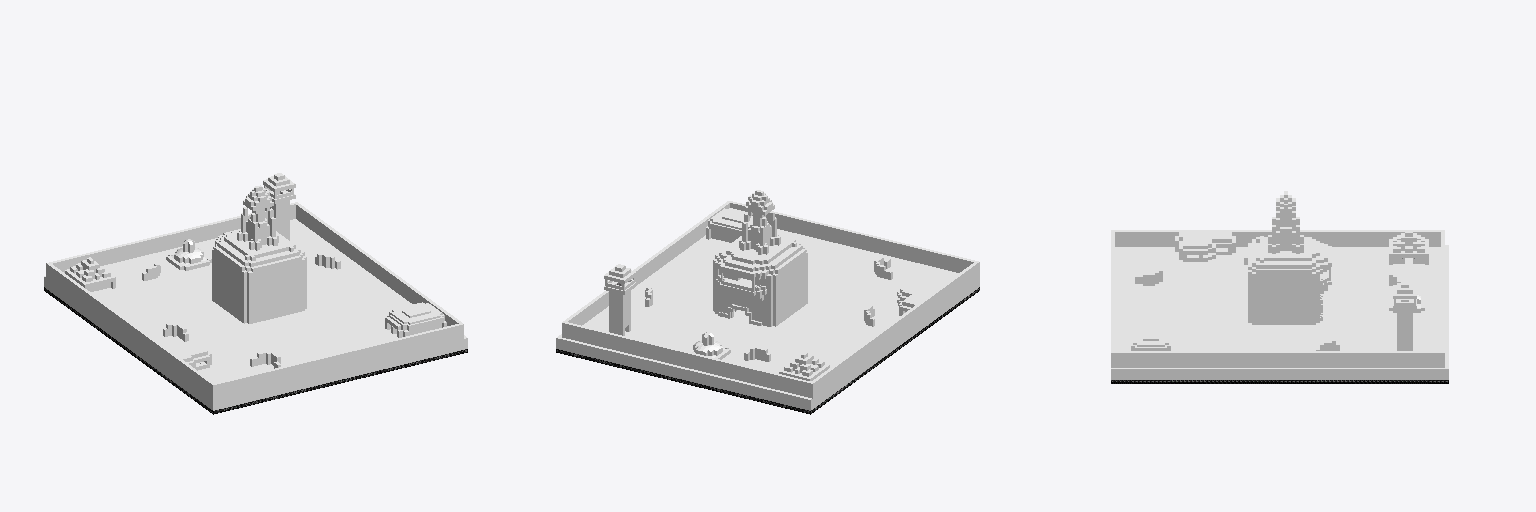
The picture shows the model from 3 angles: view 1: azimuth 30°, elevation 25°; view 2: azimuth 150°, elevation 25°; view 3: azimuth 270°, elevation 25°; orthographic projection.
Visible parts, largest first — view 1: world__-45_0_-849_to_27_36_-766; view 2: world__-45_0_-849_to_27_36_-766; view 3: world__-45_0_-849_to_27_36_-766.
Part boxes in pixels (x1,y1,x2,y2): world__-45_0_-849_to_27_36_-766: (44,173,467,414); world__-45_0_-849_to_27_36_-766: (556,190,979,414); world__-45_0_-849_to_27_36_-766: (1111,191,1448,383).
Size of the model in its own units: 73 by 36 by 84.
49 materials, 3 textured.